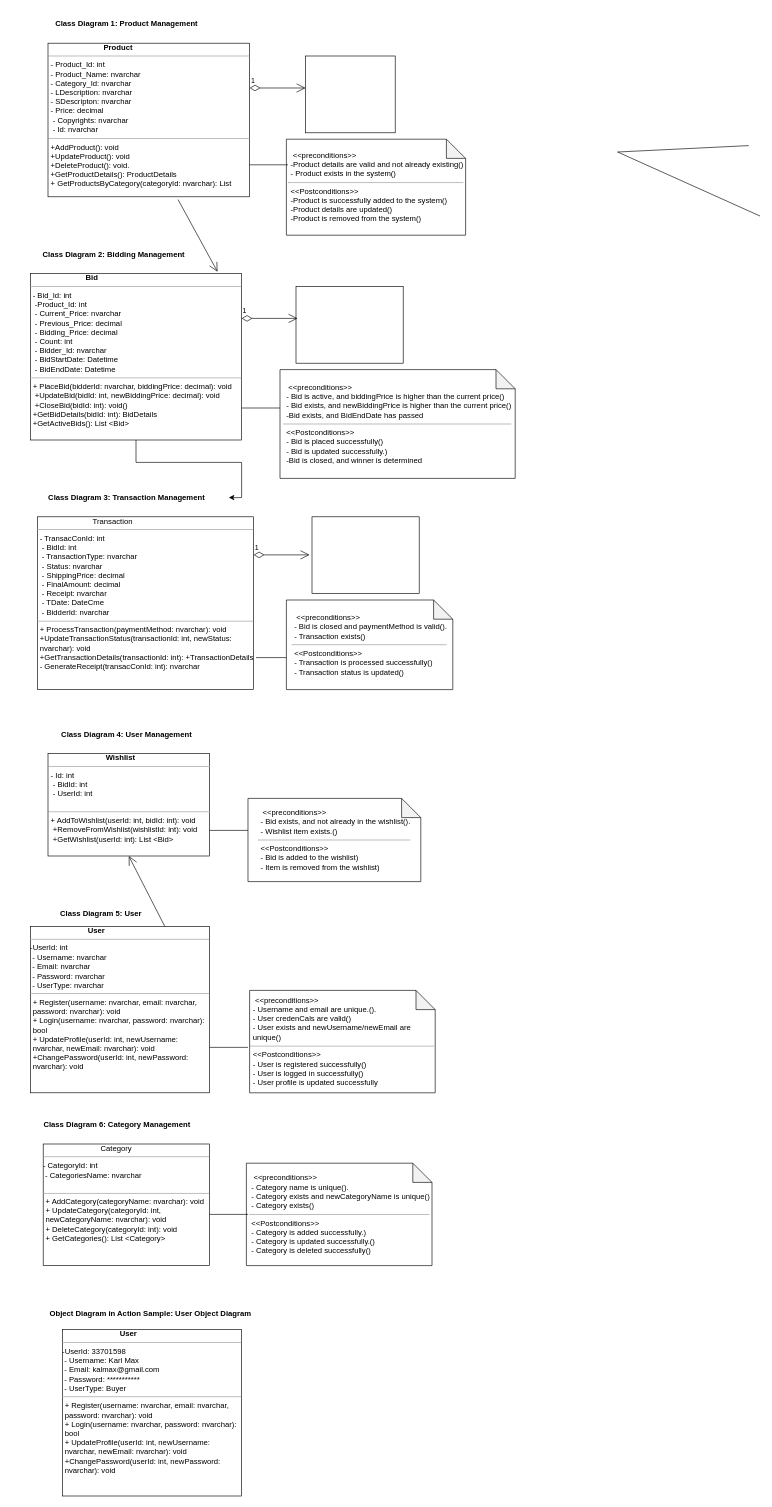
Some shapes in this 772 by 1507 pixel diagram are drawn without their labels. Here are the shapes that lost their labels. From the top down, the centre of each, then its label:
At (x=350, y=94): "ProductDetails - Product: Product - Images: List + DisplayDetails(): void".
At (x=349, y=324): "BidDetails -Bid: Bid - ProductBid: List<ProductBid> + DisplayDetails(): void".
At (x=365, y=555): "TransactionDetails -Bid: Bid - Transaction: Transaction + DisplayDetails(): void".
